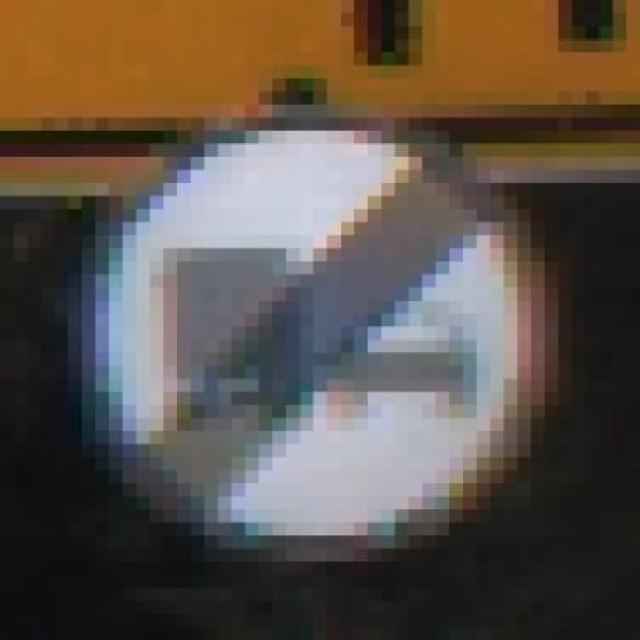Overtaking by trucks is prohibited: (54, 65, 572, 588)
